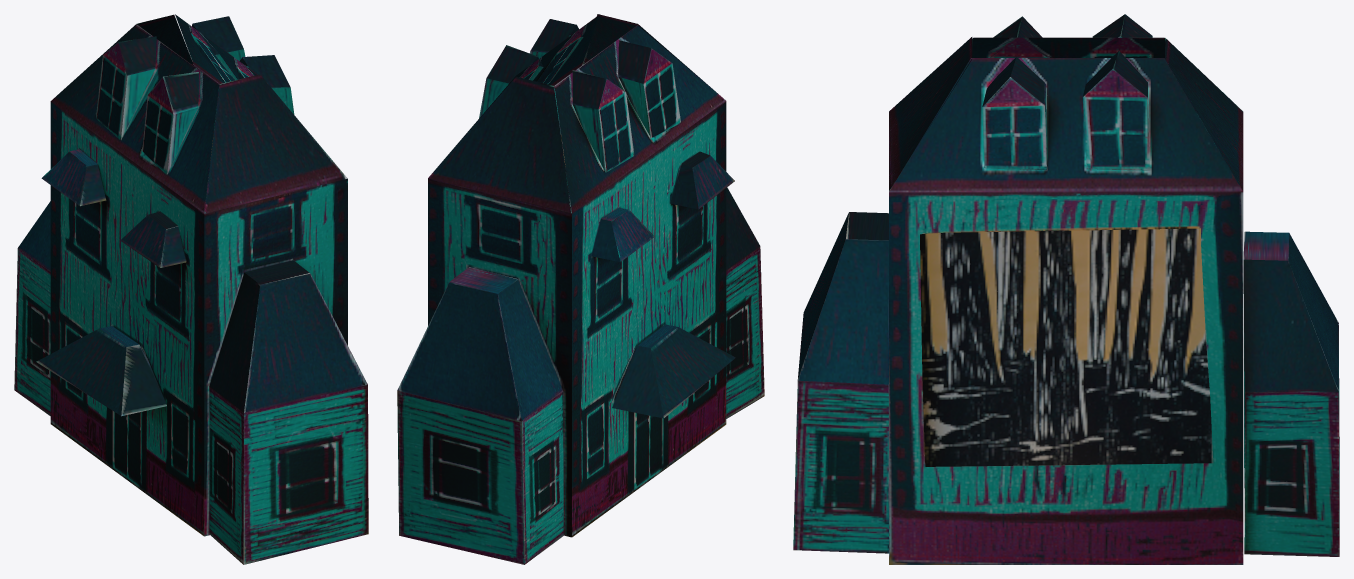
File: casa-bosque-noche-1-0.glb
The picture shows the model from 3 angles, left to right: view 1: azimuth 30°, elevation 25°; view 2: azimuth 150°, elevation 25°; view 3: azimuth 270°, elevation 25°; orthographic projection. The views are drawn at different scales.
Visible parts, largest first — view 1: Cube; view 2: Cube; view 3: Cube.
Boxes of the visible parts, x1,y1,x2,y2 form: Cube: [14, 14, 368, 564]; Cube: [397, 14, 764, 564]; Cube: [793, 14, 1339, 564].
Bounding box in the file's own units: 0.3698 × 0.7541 × 0.7711.
Materials: 1 (1 with a texture image).
